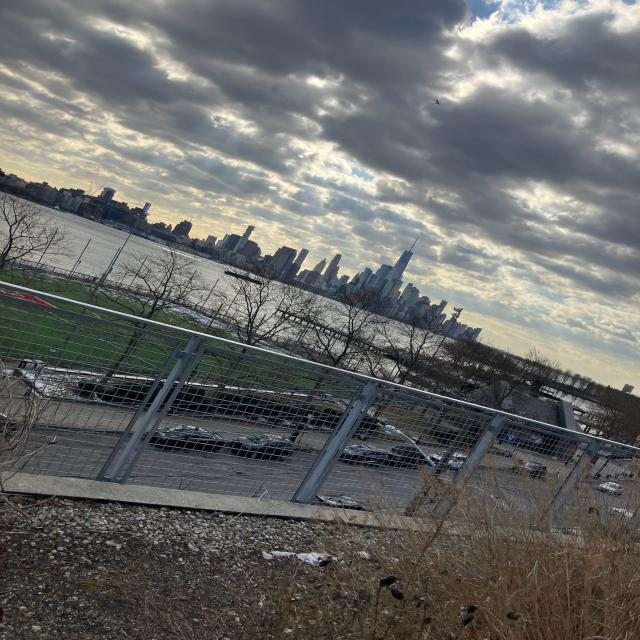WTC: (385, 235, 423, 280)
